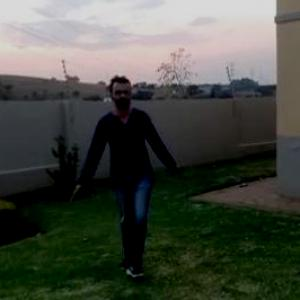land: (75, 76, 177, 288)
